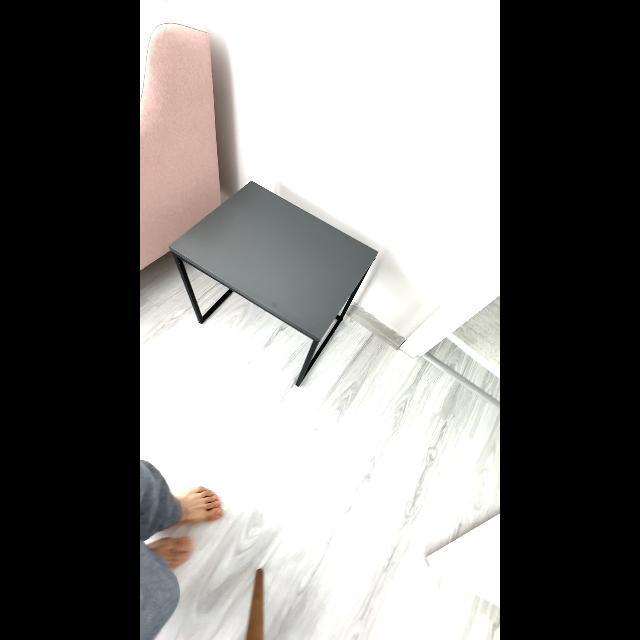coffee table: (168, 171, 382, 395)
